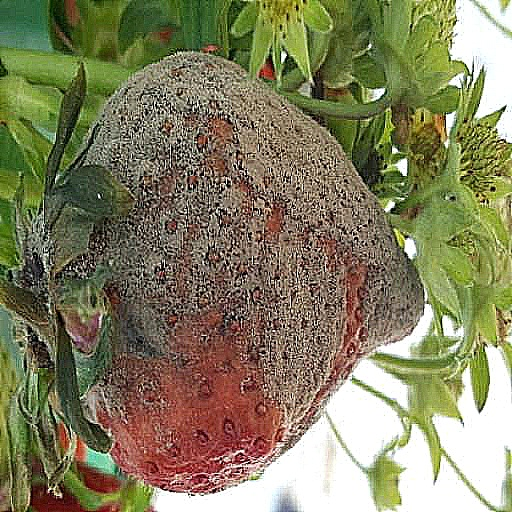Gray Mold: (7, 50, 427, 496)
